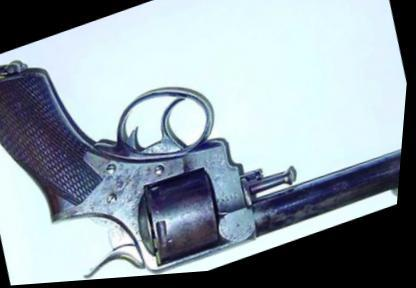pistol: (0, 0, 415, 285)
